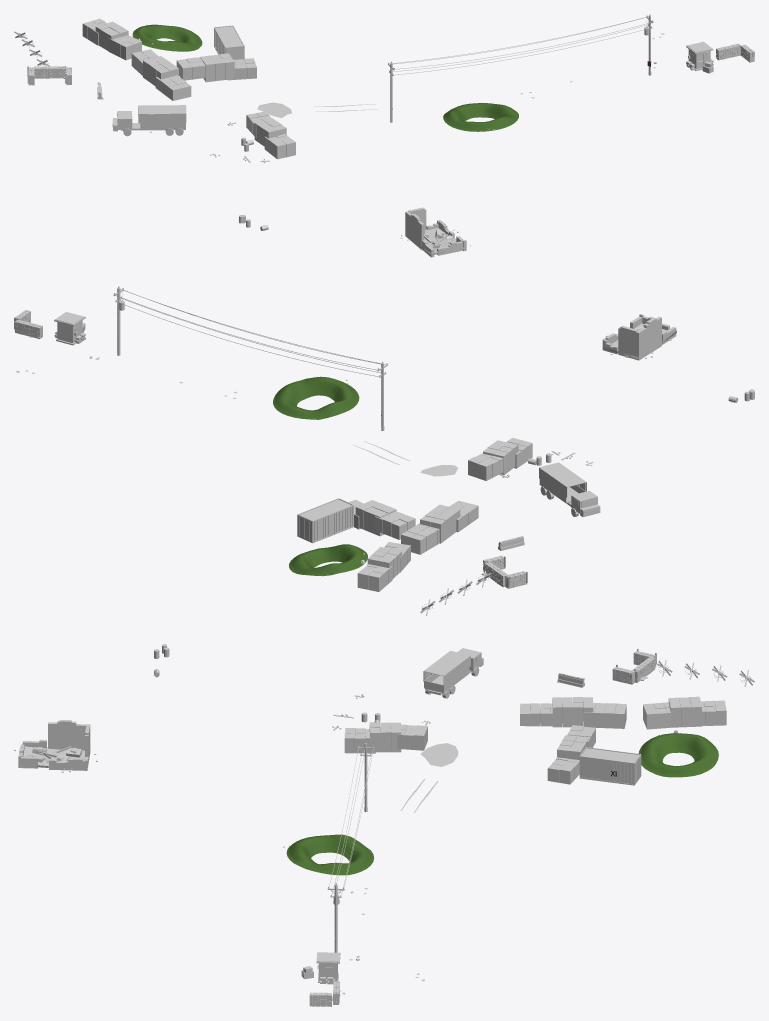
Rendered from outdoor_33.glb.
The picture shows the model from 3 angles, top to bottom: view 1: azimuth 30°, elevation 25°; view 2: azimuth 150°, elevation 25°; view 3: azimuth 270°, elevation 25°; orthographic projection. The views are drawn at different scales.
Visible parts, largest first — view 1: gas_station_town; view 2: gas_station_town; view 3: gas_station_town.
Boxes of the visible parts, x1,y1,x2,y2 form: gas_station_town: (14, 14, 754, 257); gas_station_town: (14, 286, 754, 615); gas_station_town: (14, 644, 754, 1006).
Size of the model in its own units: 83.04 by 9.44 by 79.12.
3 materials, 2 textured.
